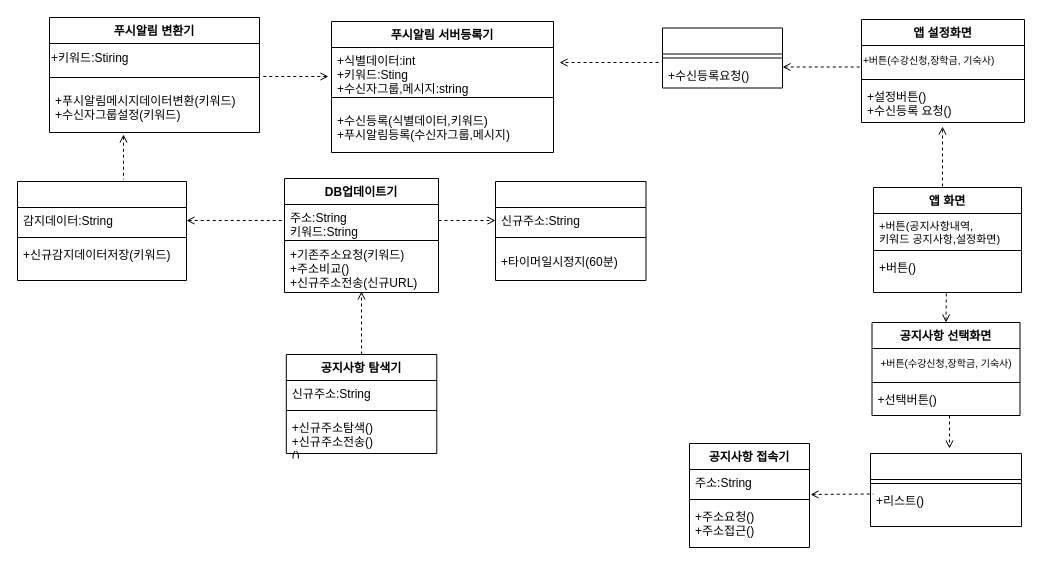
The diagram is 1042 pixels wide and 568 high, and some of its shapes have lost their labels. The shapes that lost their labels are listed below. From the top down, each one's box as (x1, y1, x2, y2) in pixels, then its label:
(662, 27, 782, 88): 수신 등록제어기
(16, 180, 186, 280): 업데이트 감지 저장소
(494, 180, 646, 280): 타이머 정지기
(870, 452, 1022, 526): 공지사항 리스트 화면
